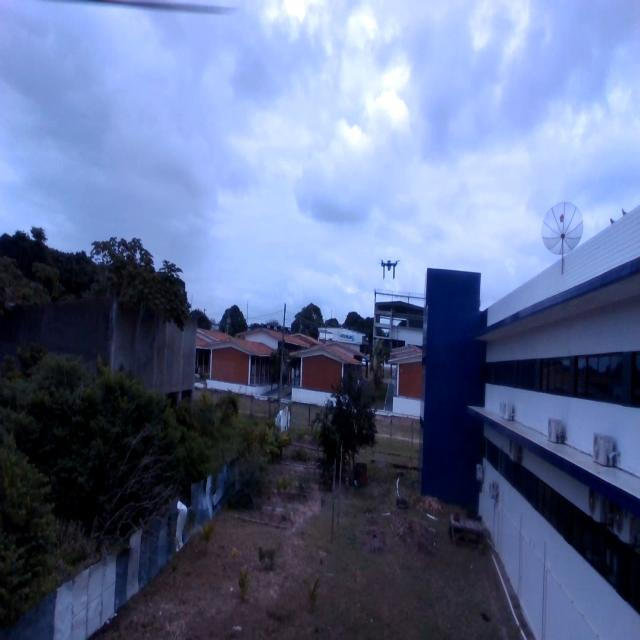-uav-: (367, 238, 410, 295)
